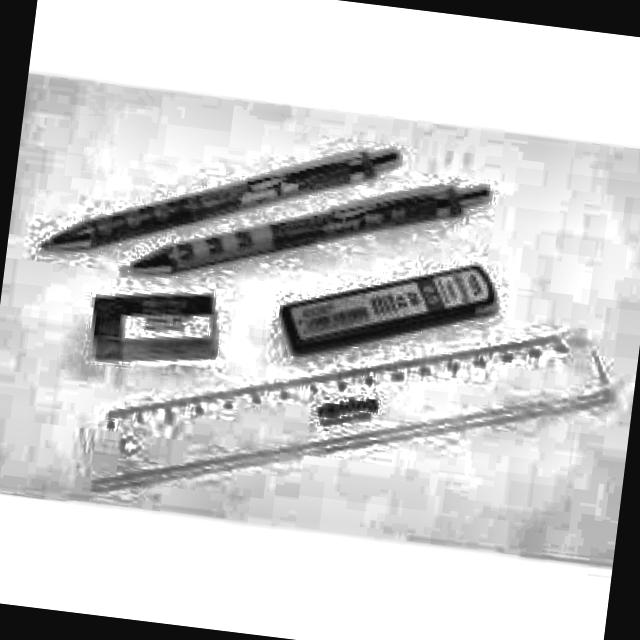Pen: (9, 86, 407, 303)
